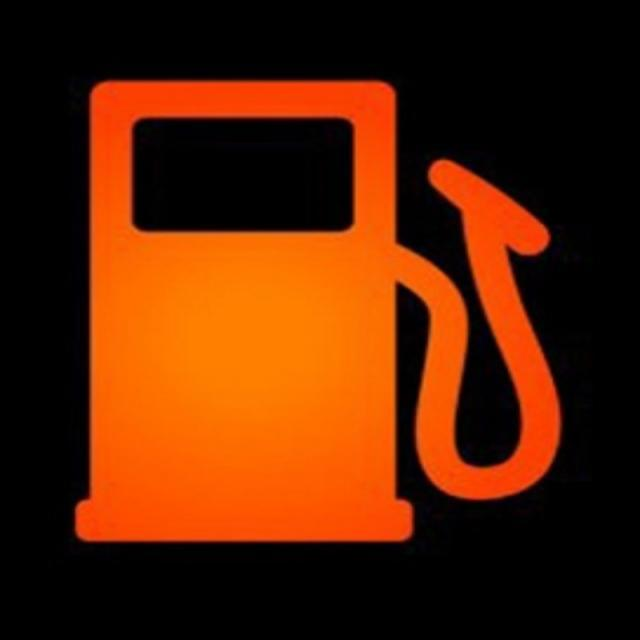LowFuel: (71, 74, 563, 546)
